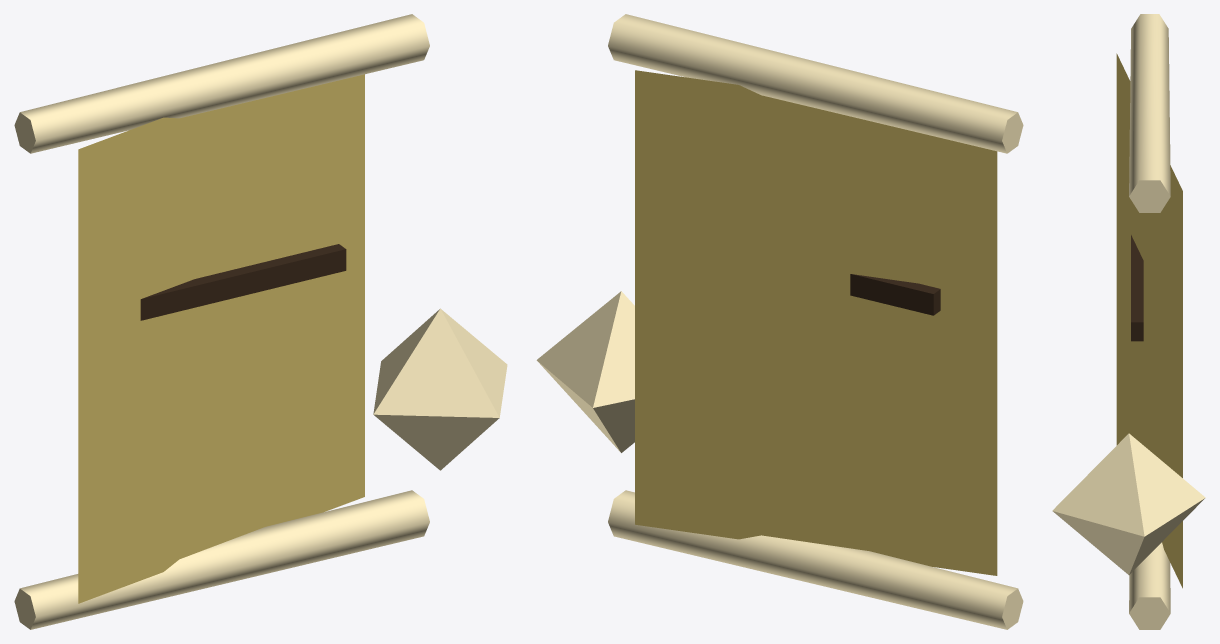
File: player_scroll_token.glb
The picture shows the model from 3 angles, left to right: view 1: azimuth 30°, elevation 25°; view 2: azimuth 150°, elevation 25°; view 3: azimuth 270°, elevation 25°; orthographic projection. The views are drawn at different scales.
Parts seen in each view (by area): view 1: scroll_panel, scroll_top_pin, scroll_bottom_pin, scroll_token_chip, scroll_mark_line; view 2: scroll_panel, scroll_top_pin, scroll_bottom_pin, scroll_token_chip, scroll_mark_line; view 3: scroll_panel, scroll_token_chip, scroll_top_pin, scroll_bottom_pin, scroll_mark_line.
Boxes of the visible parts, bbox=[...] form: scroll_panel: bbox=[78, 74, 364, 603]; scroll_top_pin: bbox=[14, 14, 429, 153]; scroll_bottom_pin: bbox=[14, 490, 429, 629]; scroll_token_chip: bbox=[373, 308, 507, 470]; scroll_mark_line: bbox=[140, 244, 346, 320]; scroll_panel: bbox=[635, 70, 997, 575]; scroll_top_pin: bbox=[608, 14, 1023, 153]; scroll_bottom_pin: bbox=[608, 490, 1023, 629]; scroll_token_chip: bbox=[536, 291, 634, 452]; scroll_mark_line: bbox=[850, 274, 940, 315]; scroll_panel: bbox=[1116, 53, 1182, 588]; scroll_token_chip: bbox=[1052, 433, 1205, 574]; scroll_top_pin: bbox=[1129, 14, 1170, 212]; scroll_bottom_pin: bbox=[1129, 542, 1170, 629]; scroll_mark_line: bbox=[1131, 235, 1143, 341].
Bounding box in the file's own units: 0.4635 × 0.4746 × 0.147.
